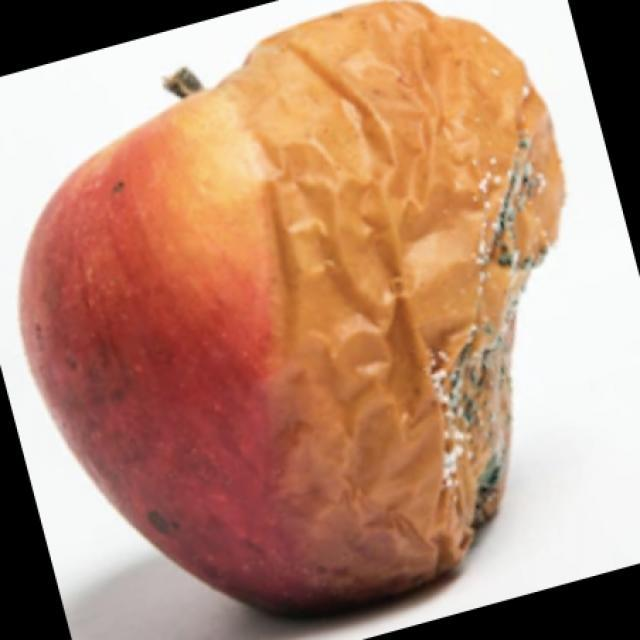Rotten: (16, 14, 572, 614)
